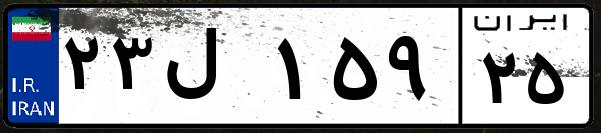1: (270, 28, 330, 110)
2: (57, 26, 110, 100), (475, 38, 525, 113)
3: (110, 28, 158, 98)
5: (330, 28, 385, 110), (525, 38, 570, 115)
9: (385, 28, 445, 110)
ل: (158, 20, 270, 120)
